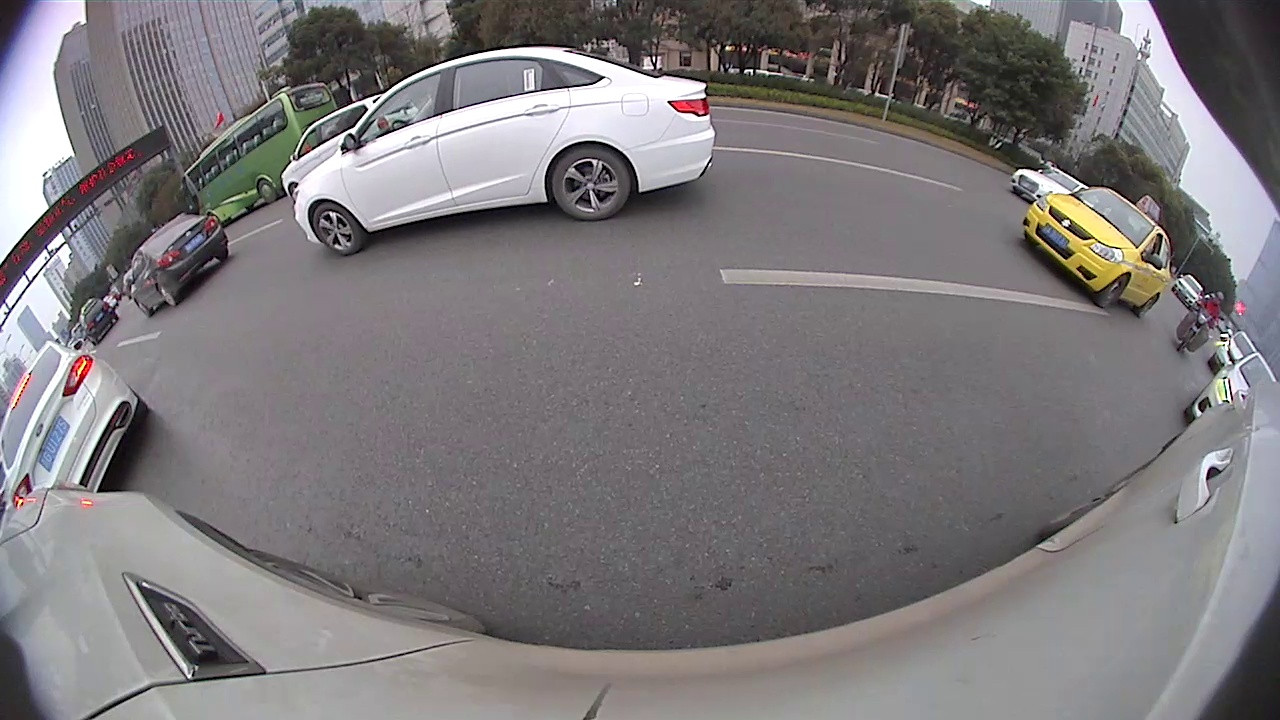bus: (186, 82, 353, 223)
car: (297, 49, 714, 255), (1, 341, 144, 512), (1019, 188, 1167, 318), (125, 214, 230, 315), (283, 98, 386, 184), (1188, 354, 1276, 420), (1012, 168, 1090, 203), (1213, 330, 1256, 369), (79, 298, 117, 336)
front: (311, 202, 363, 255), (1098, 272, 1133, 309)
rear: (550, 143, 633, 219), (1137, 293, 1161, 320), (157, 281, 178, 307), (257, 178, 278, 204)
rider: (1173, 288, 1228, 360)
